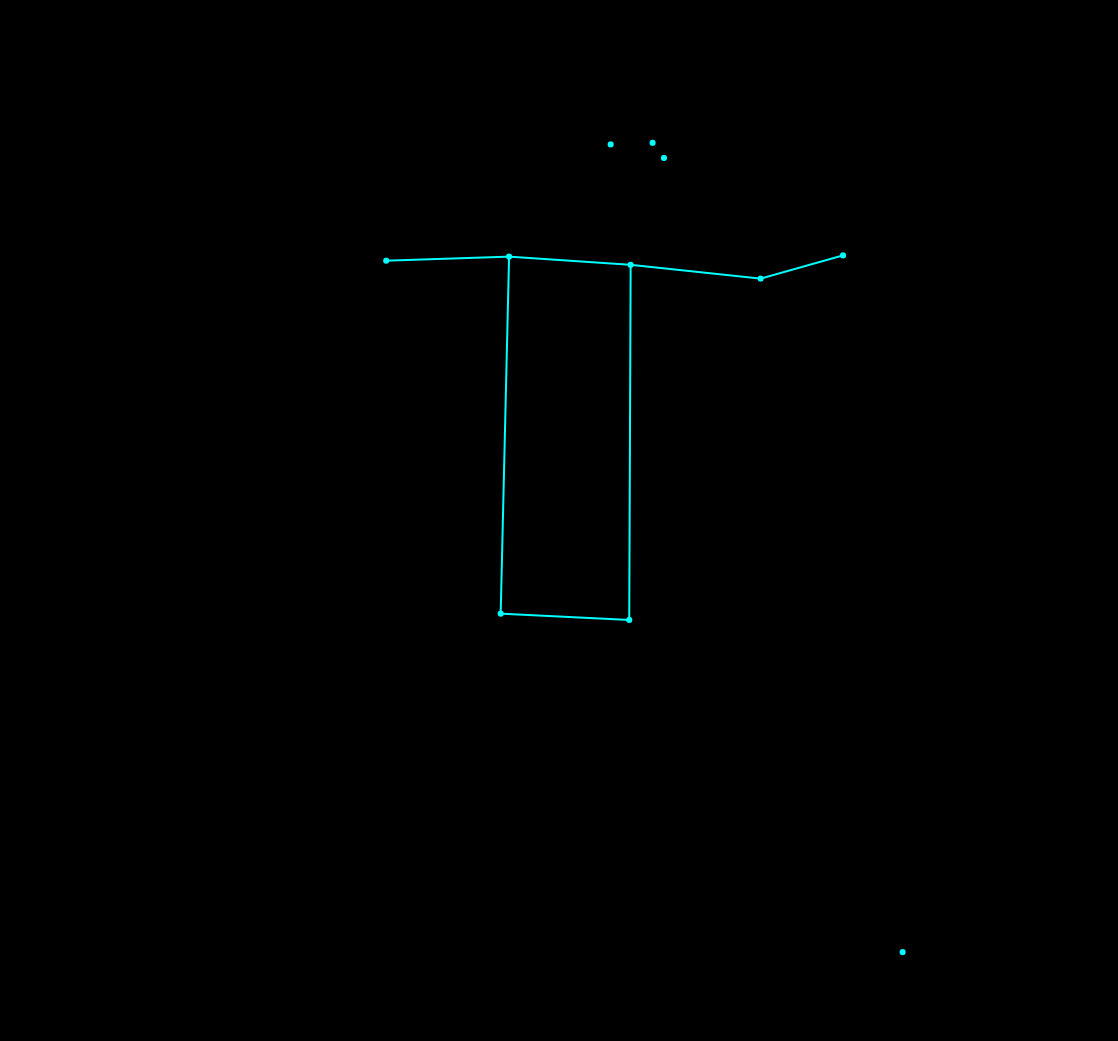warrior_2: (331, 111, 919, 966)
